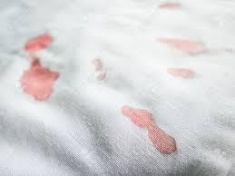blood: (22, 62, 58, 102), (122, 107, 152, 127), (151, 131, 175, 152), (26, 34, 52, 51)
